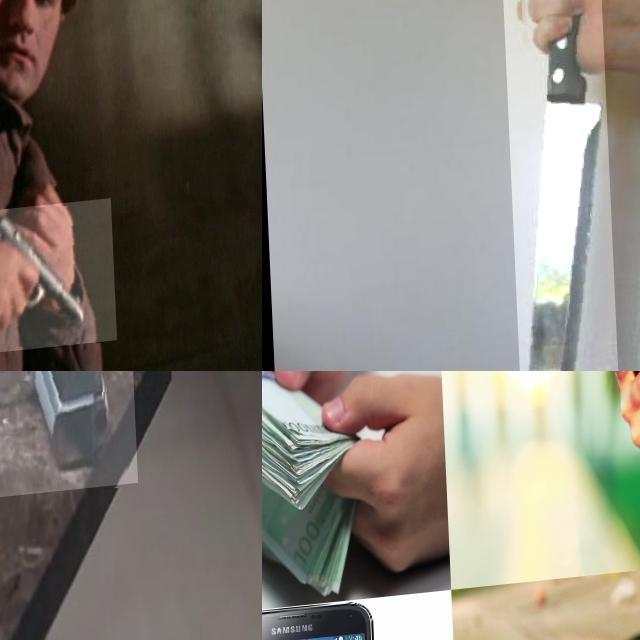-: (500, 0, 617, 371)
gun-knife-thesis - v11 Yolov5 augmented: (0, 371, 138, 516), (0, 207, 111, 361)
